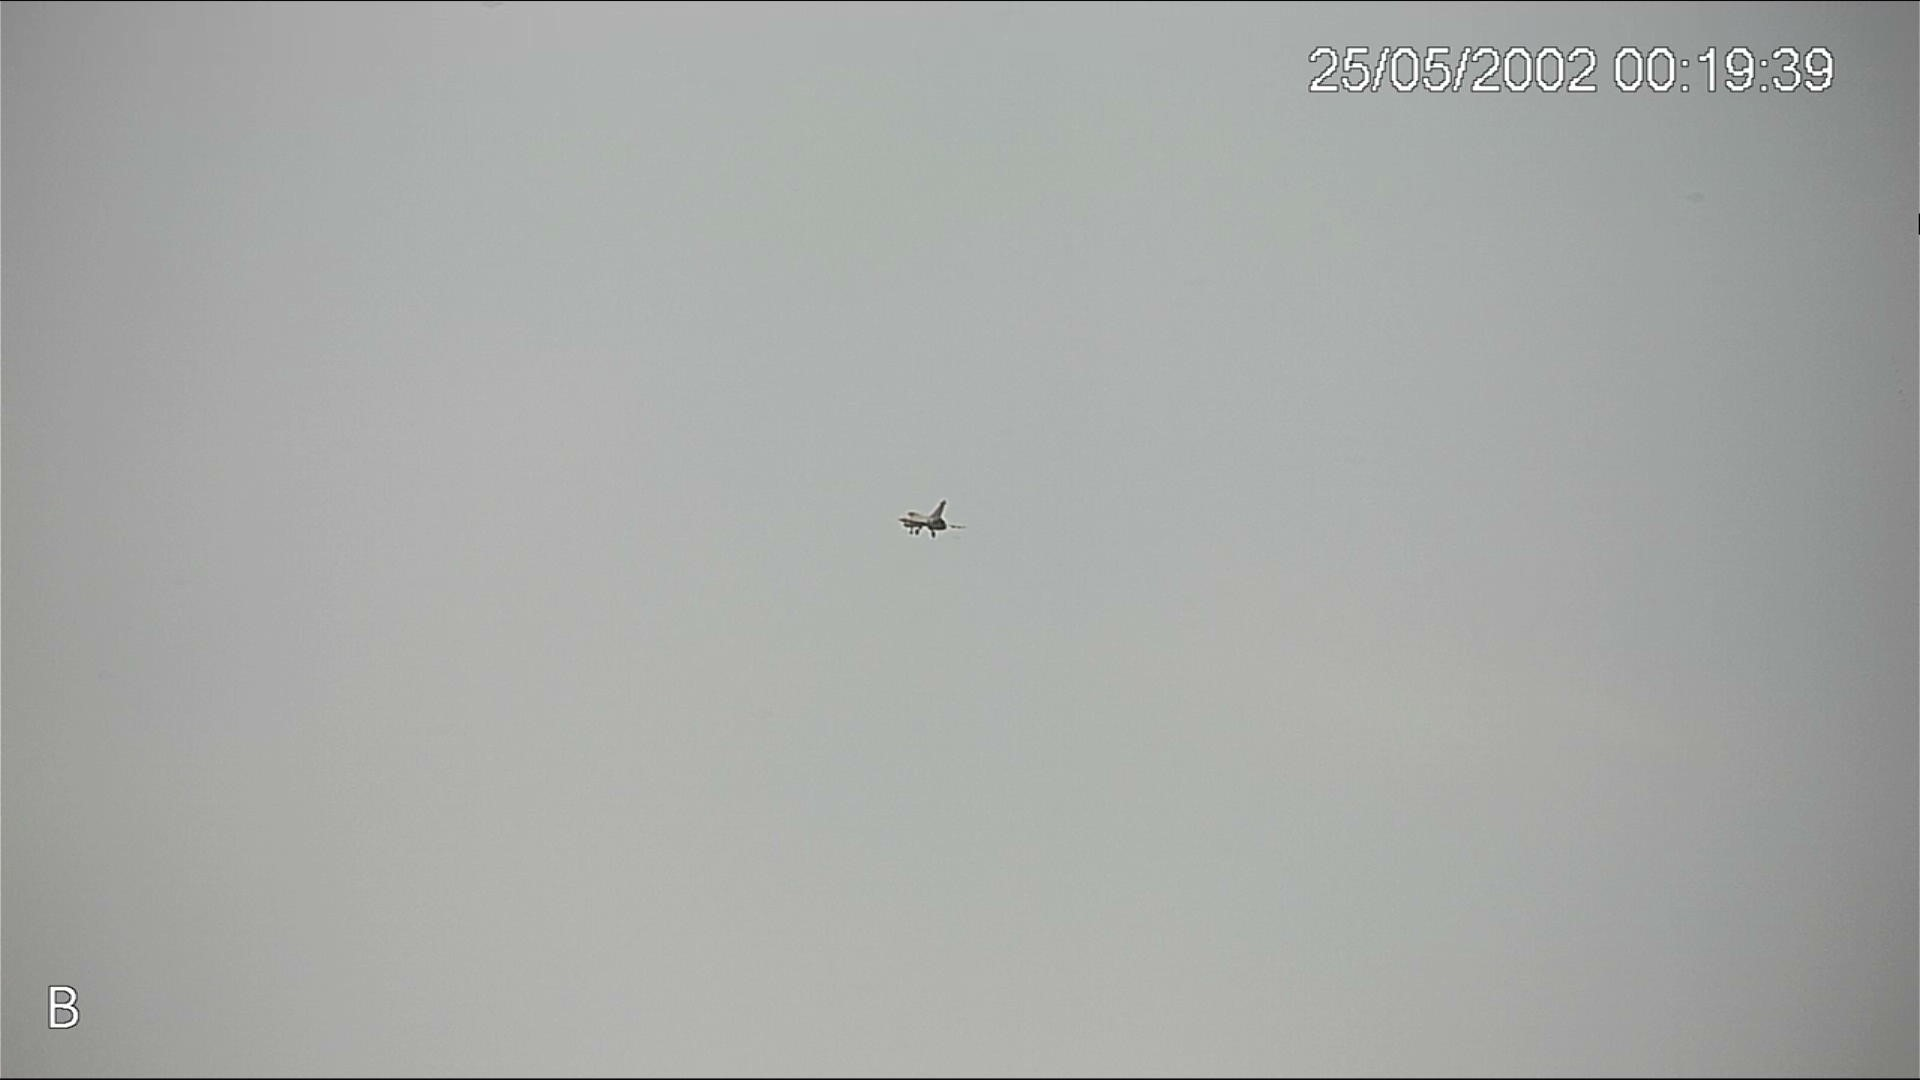SU_30: (899, 498, 967, 538)
